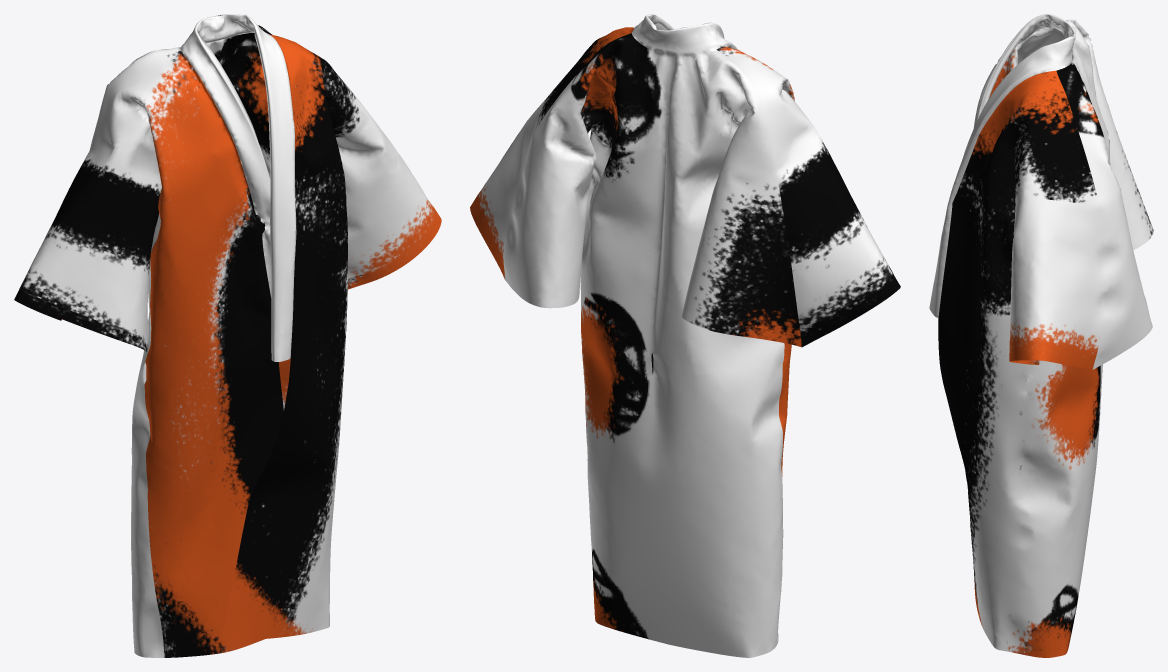
The picture shows the model from 3 angles, left to right: view 1: azimuth 30°, elevation 25°; view 2: azimuth 150°, elevation 25°; view 3: azimuth 270°, elevation 25°; orthographic projection. The views are drawn at different scales.
Parts seen in each view (by area): view 1: Model_10; view 2: Model_10; view 3: Model_10.
Boxes of the visible parts, x1,y1,x2,y2 form: Model_10: (14, 14, 441, 657); Model_10: (470, 14, 900, 657); Model_10: (929, 14, 1153, 657).
Size of the model in its own units: 10.16 by 14.06 by 4.81.
1 material, 1 textured.
